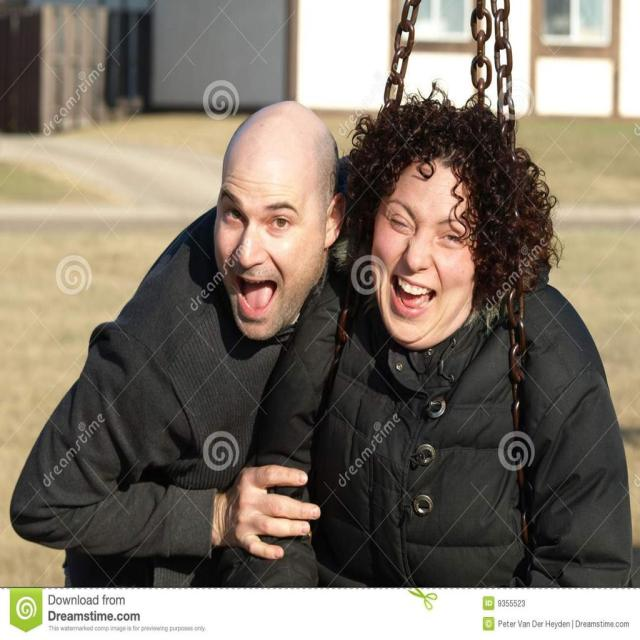Face: (211, 143, 335, 364), (380, 154, 487, 352)
